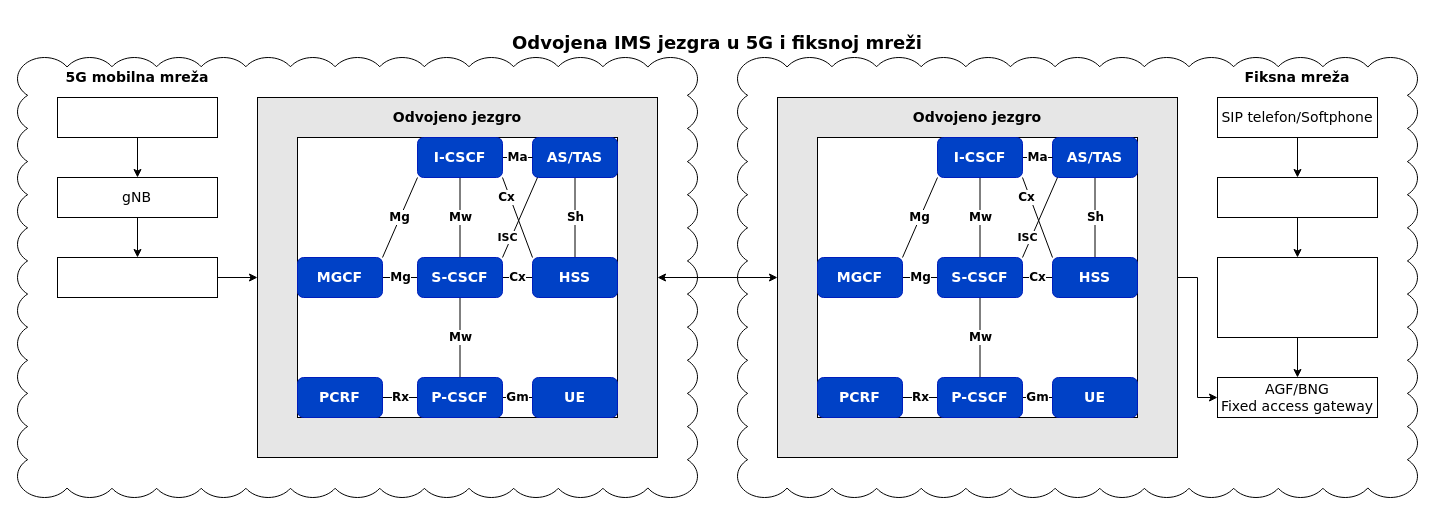
Image size: 1435x515. Some labels were removed from this diagram. Each missing label, with the centre of its shape:
"5G core (5GC) AMF/SMF/UPF" belongs at pixel 137 277.
"5G UE (VoNR telefon)" belongs at pixel 137 117.
"CPE/Home router" belongs at pixel 1297 197.
"Fiksna pristupna tačka (xDSL/FTTH)" belongs at pixel 1297 297.
